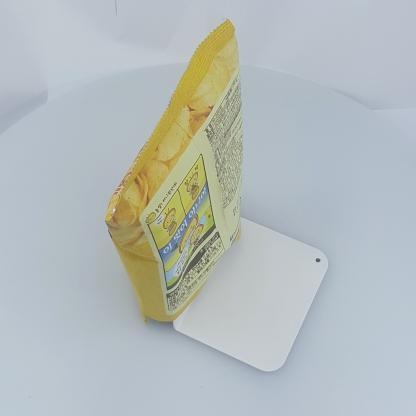Plastic Packaging: (99, 13, 261, 335)
